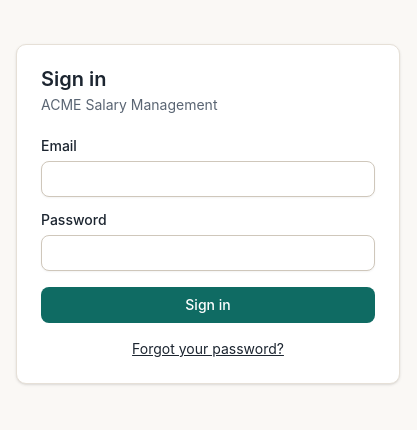
Scenario: LoginPage › asks for an email and password before sending anything
Click the button "Sign in" at (208, 305), box top-left (41, 287), bottom-right (375, 323)
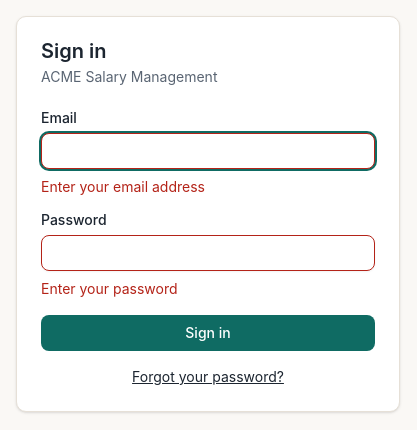
Expected: the text "Enter your email address" is shown, top-left (41, 178), bottom-right (205, 195)
Expected: the text "Enter your password" is shown, top-left (41, 280), bottom-right (178, 297)
